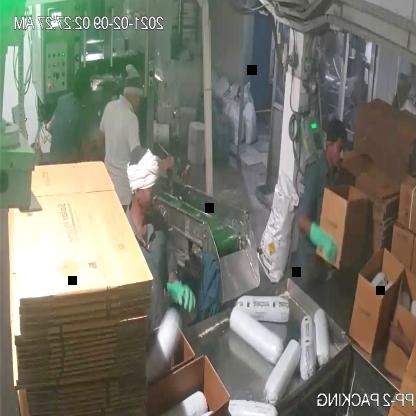glove: (162, 276, 204, 317), (305, 217, 340, 265)
